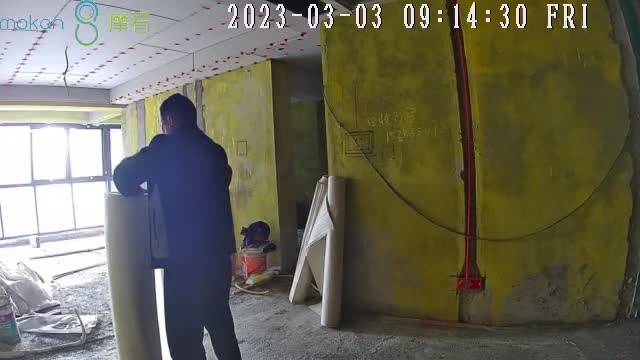people: (114, 94, 244, 360)
window: (1, 121, 123, 249)
